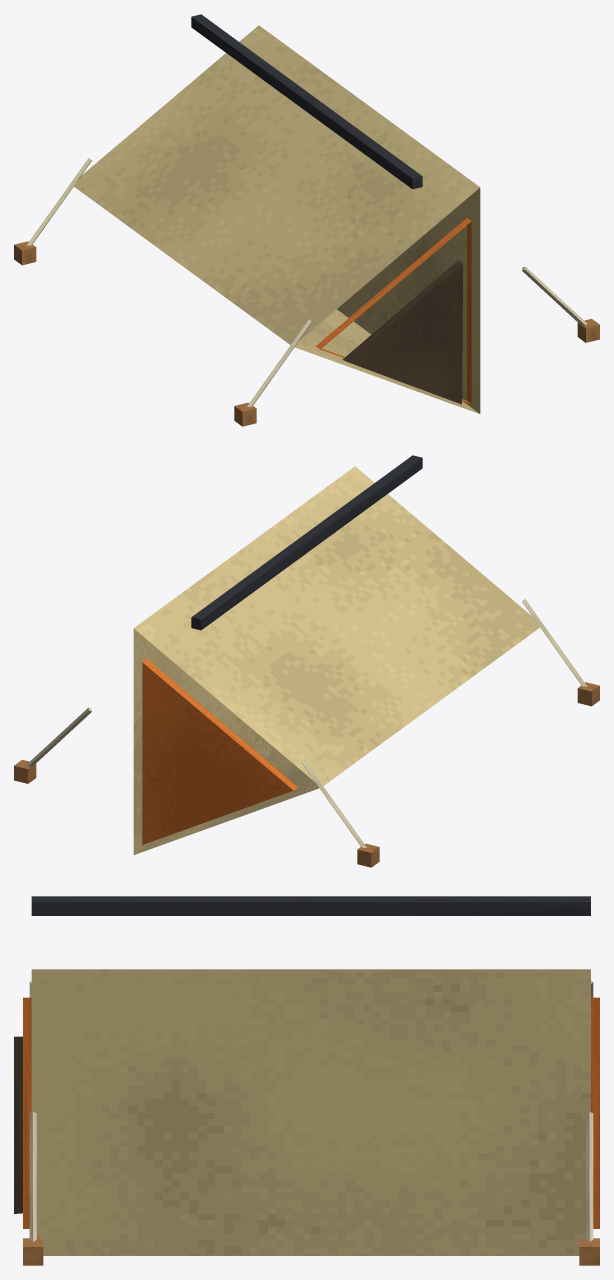
Rendered from prop_tent.glb.
The picture shows the model from 3 angles, top to bottom: view 1: azimuth 30°, elevation 25°; view 2: azimuth 150°, elevation 25°; view 3: azimuth 270°, elevation 25°; orthographic projection. The views are drawn at different scales.
Visible parts, largest first — view 1: prop_tent; view 2: prop_tent; view 3: prop_tent.
Boxes of the visible parts, x1=… form: prop_tent: x1=14, y1=14, x2=599, y2=426; prop_tent: x1=14, y1=455, x2=599, y2=867; prop_tent: x1=14, y1=896, x2=599, y2=1265.
Size of the model in its own units: 1.77 by 1.19 by 1.99.
1 material, 1 textured.
